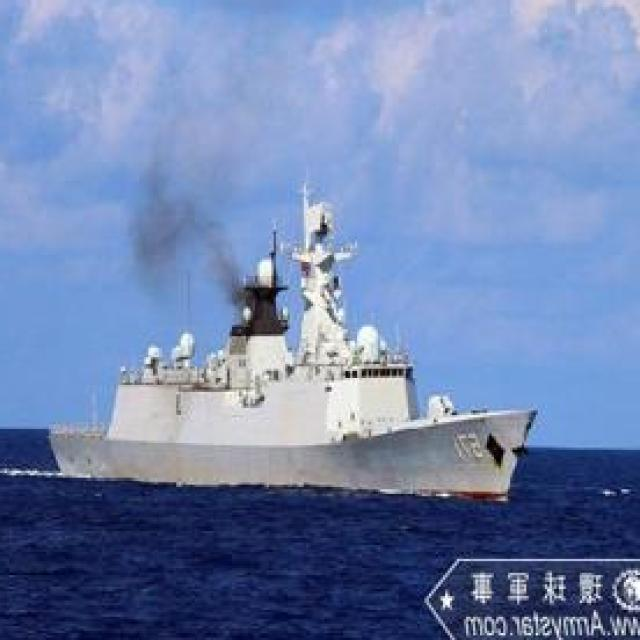navalvessels: (42, 181, 544, 494)
